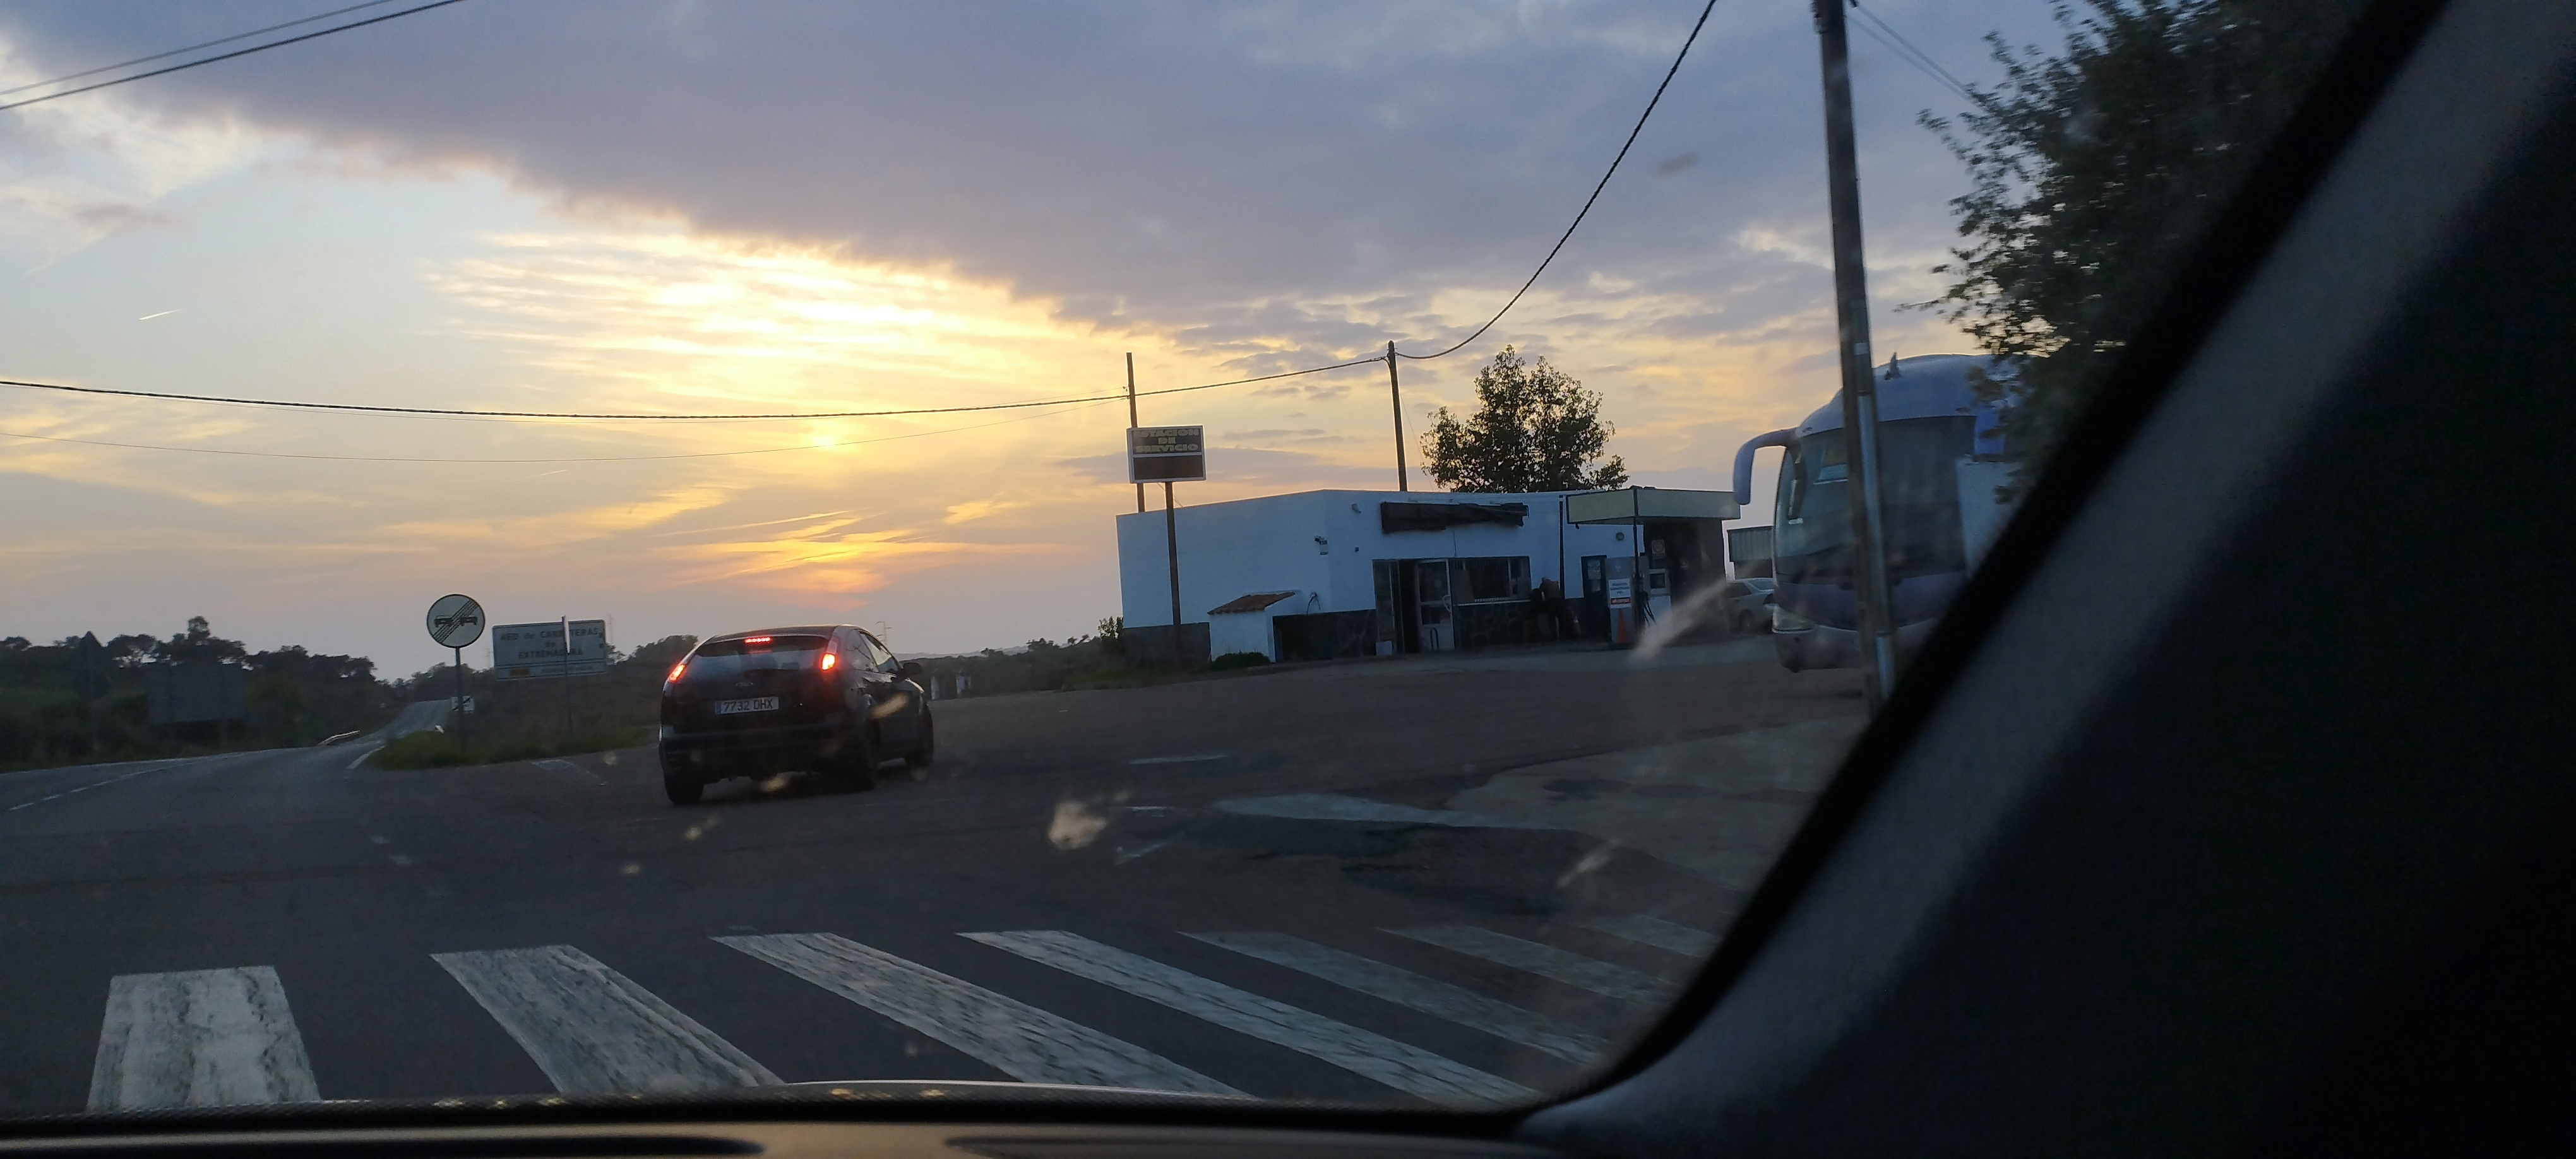Car: (659, 626, 934, 802)
Plate: (714, 702, 780, 714)
